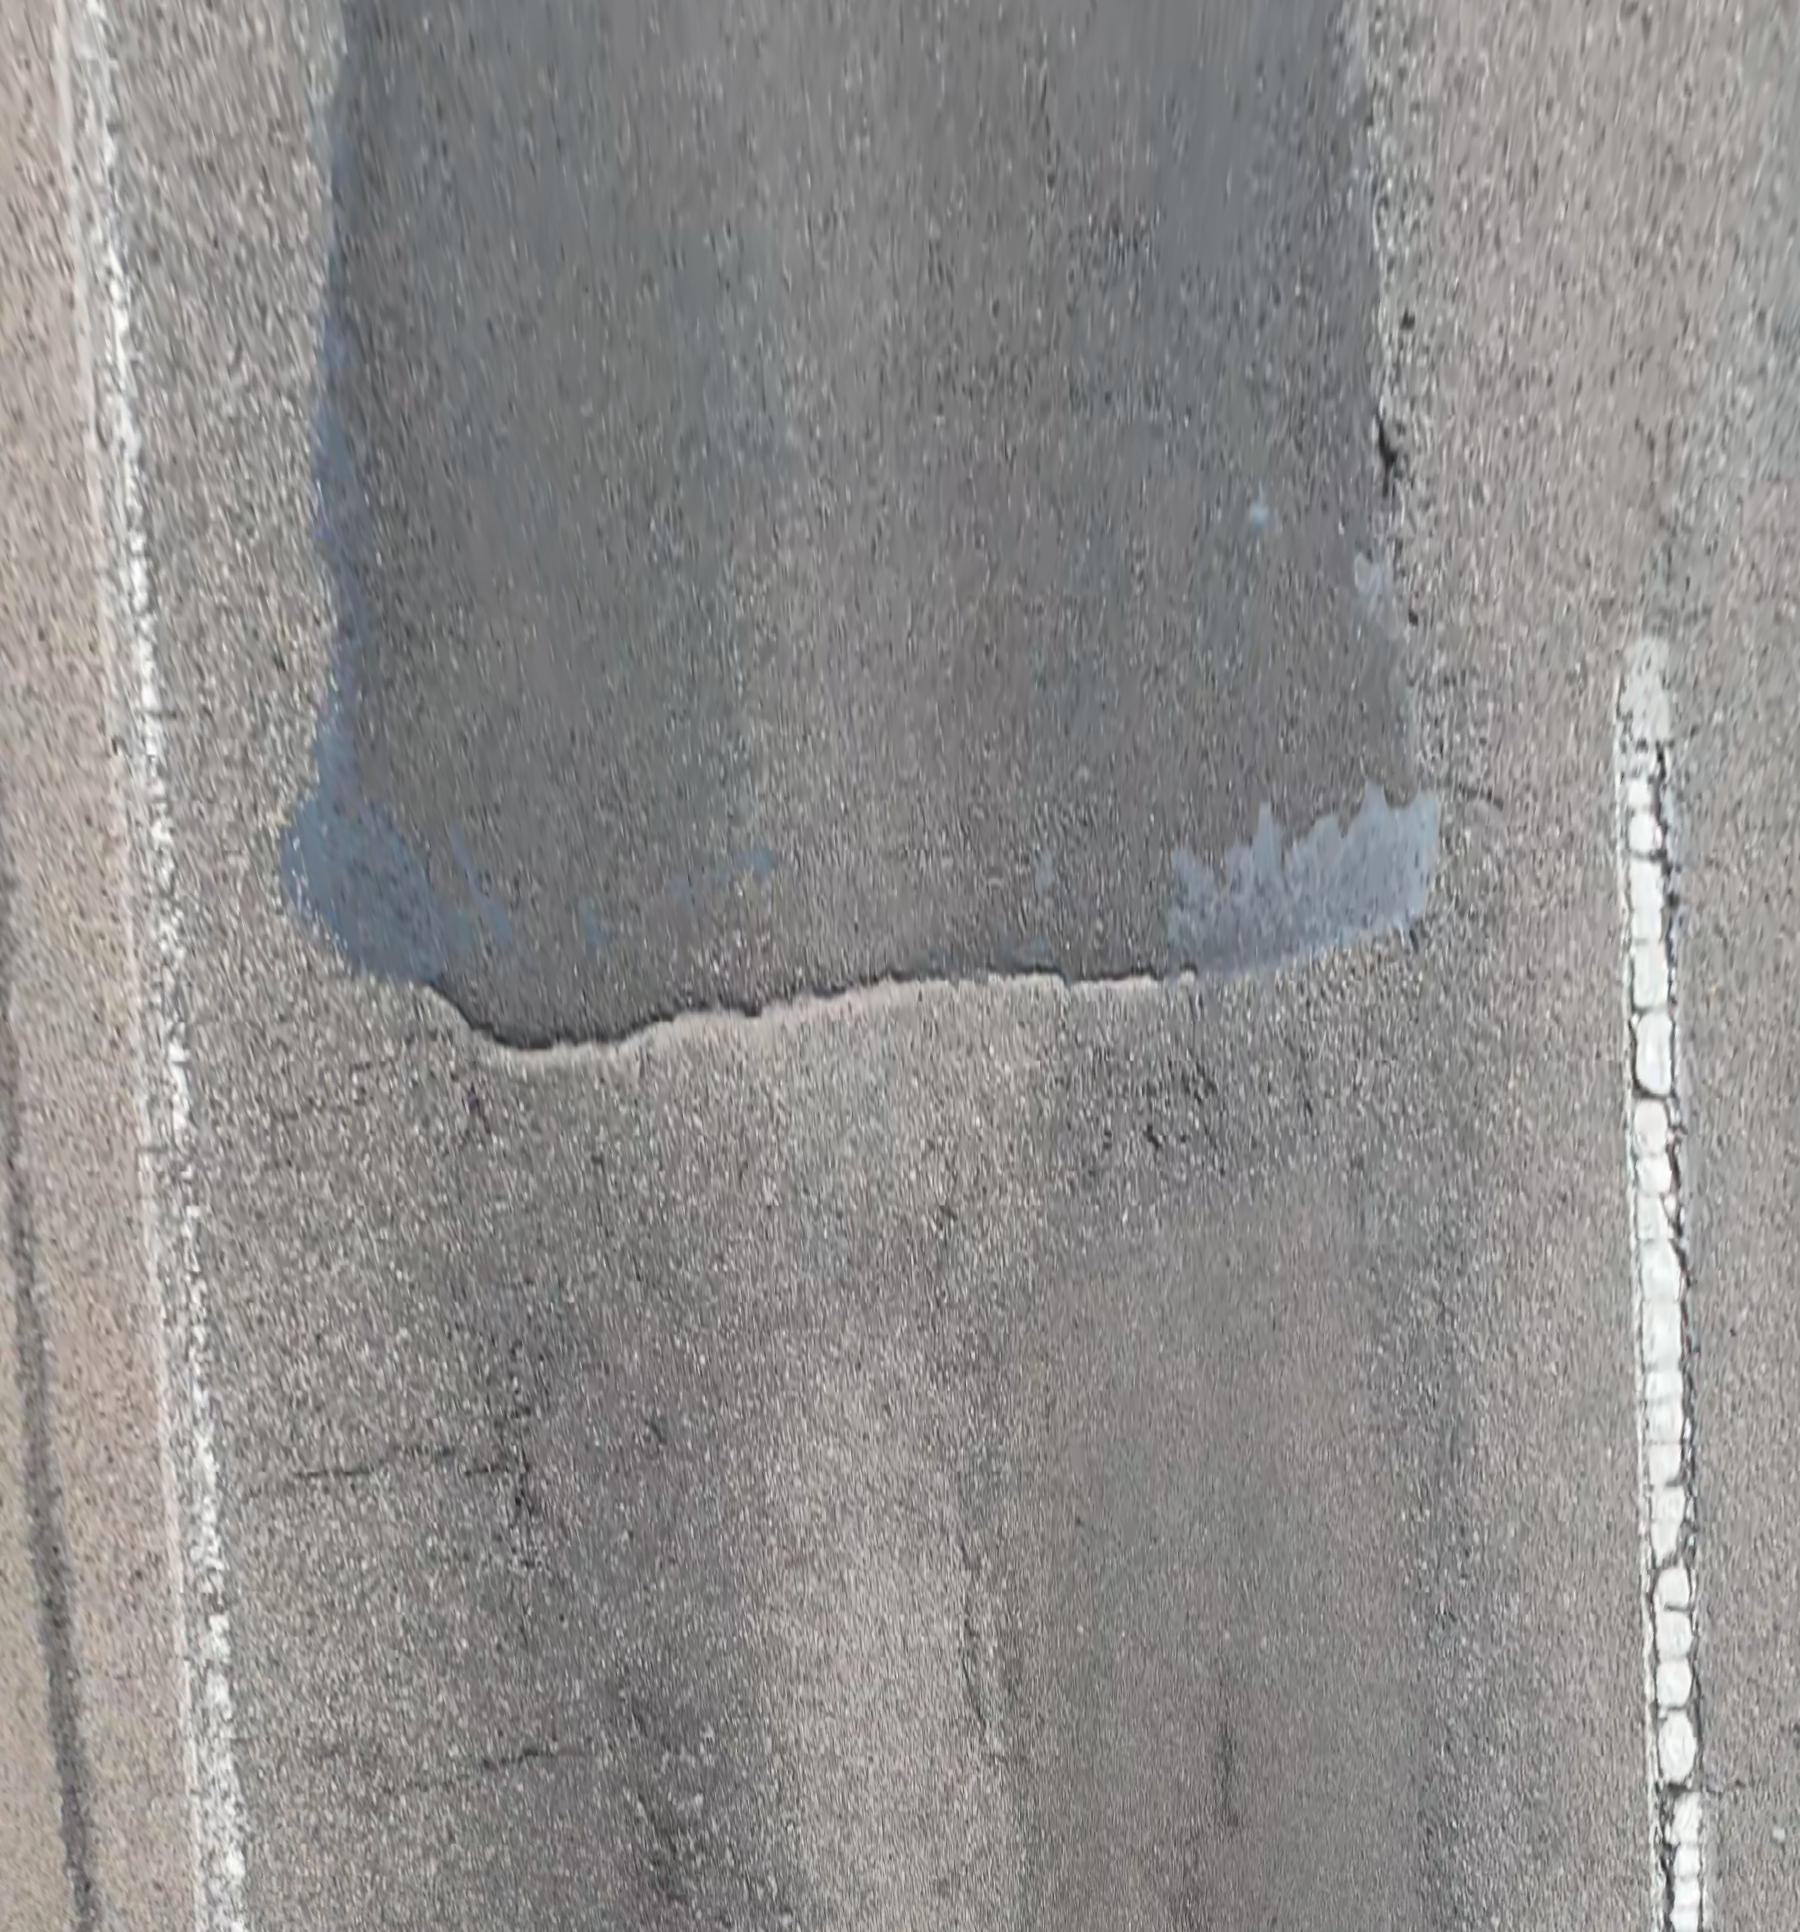pothole_patch_good: (284, 0, 1440, 1042)
